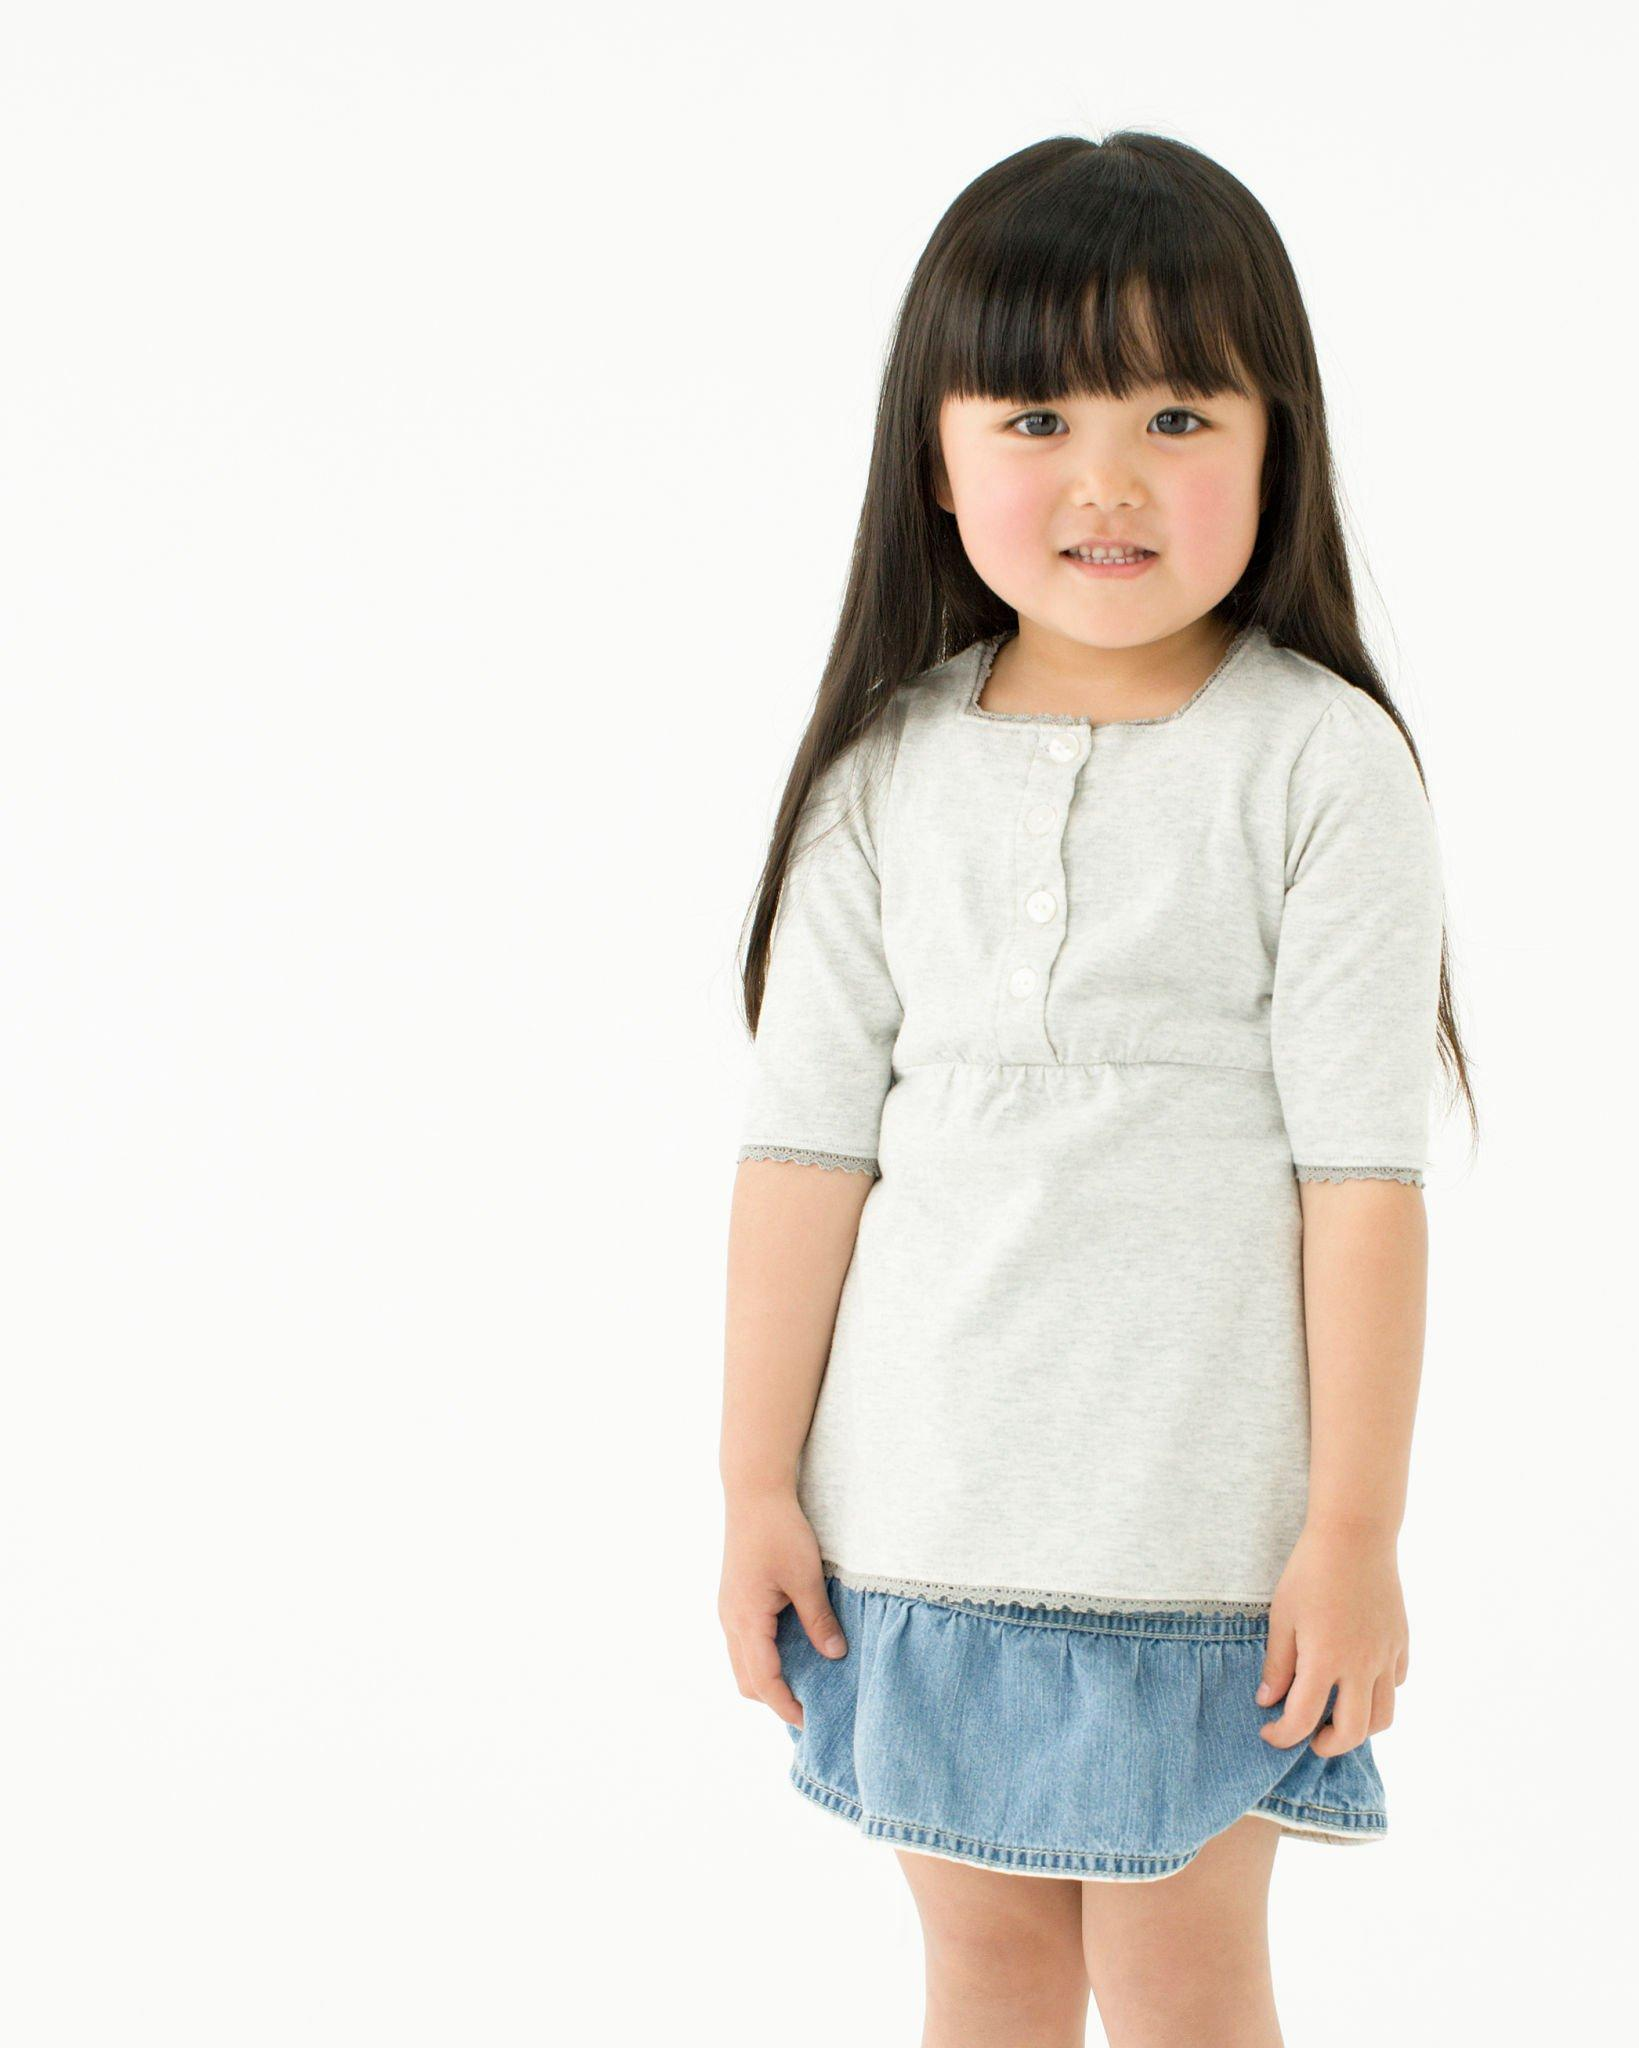Healthy: (942, 286, 1284, 652)
